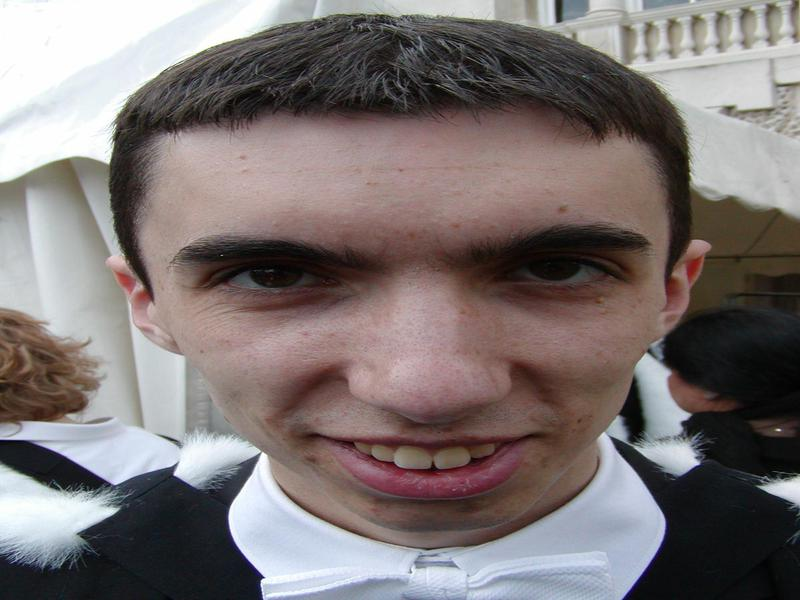person: (31, 14, 792, 600)
